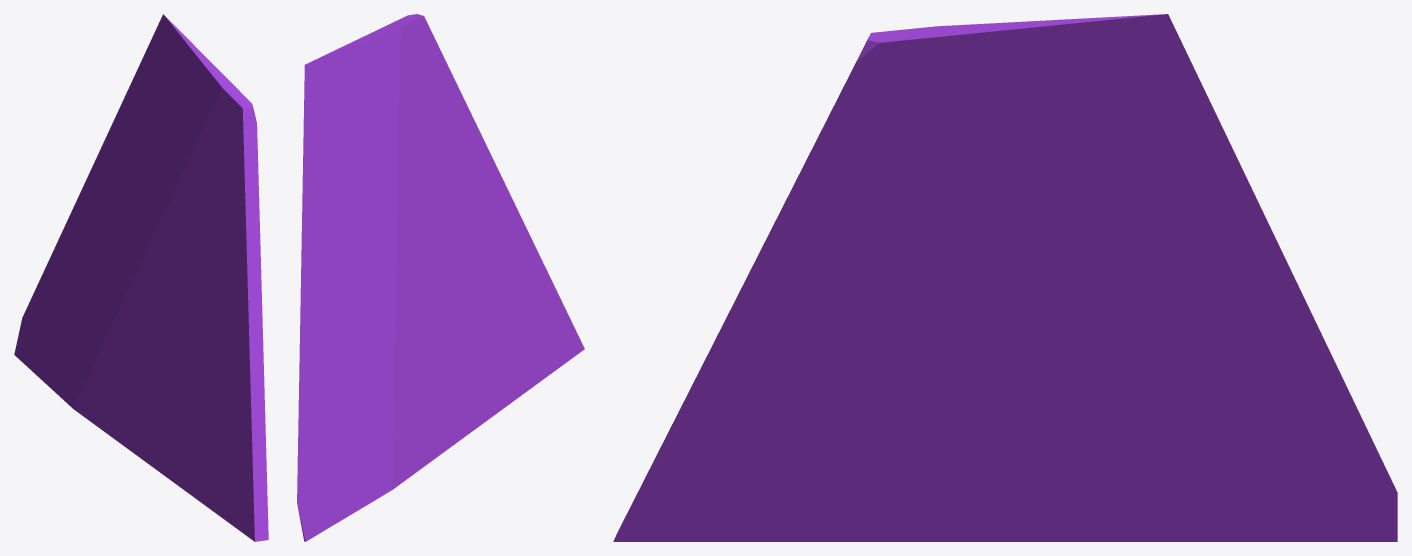
The model's file is Window_4_5_chunks.fbx.
The picture shows the model from 3 angles, left to right: view 1: azimuth 30°, elevation 25°; view 2: azimuth 150°, elevation 25°; view 3: azimuth 270°, elevation 25°; orthographic projection. The views are drawn at different scales.
Parts seen in each view (by area): view 1: Window_4_5_0, Window_4_5_6, Window_4_5_5, Window_4_5_1, Window_4_5_3, Window_4_5_7, Window_4_5_9, Window_4_5_8, Window_4_5_4, Window_4_5_2; view 2: Window_4_5_0, Window_4_5_5, Window_4_5_6, Window_4_5_3, Window_4_5_7, Window_4_5_1, Window_4_5_9, Window_4_5_8, Window_4_5_4, Window_4_5_2; view 3: Window_4_5_0, Window_4_5_1, Window_4_5_6, Window_4_5_5, Window_4_5_7, Window_4_5_3, Window_4_5_4, Window_4_5_8, Window_4_5_9, Window_4_5_2.
Boxes of the visible parts, bbox=[...] form: Window_4_5_0: bbox=[133, 14, 247, 259]; Window_4_5_6: bbox=[172, 352, 268, 541]; Window_4_5_5: bbox=[37, 80, 141, 300]; Window_4_5_1: bbox=[178, 96, 262, 325]; Window_4_5_3: bbox=[14, 287, 106, 414]; Window_4_5_7: bbox=[81, 357, 179, 480]; Window_4_5_9: bbox=[110, 258, 186, 366]; Window_4_5_8: bbox=[177, 259, 263, 360]; Window_4_5_4: bbox=[107, 143, 158, 285]; Window_4_5_2: bbox=[99, 270, 152, 363]; Window_4_5_0: bbox=[303, 15, 431, 251]; Window_4_5_5: bbox=[297, 159, 370, 457]; Window_4_5_6: bbox=[463, 203, 584, 413]; Window_4_5_3: bbox=[297, 372, 402, 541]; Window_4_5_7: bbox=[400, 310, 496, 483]; Window_4_5_1: bbox=[399, 14, 499, 225]; Window_4_5_9: bbox=[403, 228, 464, 397]; Window_4_5_8: bbox=[423, 172, 514, 289]; Window_4_5_4: bbox=[341, 192, 408, 347]; Window_4_5_2: bbox=[369, 270, 407, 407]; Window_4_5_0: bbox=[863, 14, 1217, 269]; Window_4_5_1: bbox=[738, 37, 1028, 295]; Window_4_5_6: bbox=[613, 317, 892, 541]; Window_4_5_5: bbox=[1157, 117, 1373, 444]; Window_4_5_7: bbox=[856, 382, 1144, 541]; Window_4_5_3: bbox=[1100, 394, 1397, 541]; Window_4_5_4: bbox=[1015, 166, 1176, 405]; Window_4_5_8: bbox=[718, 286, 989, 393]; Window_4_5_9: bbox=[925, 293, 1081, 420]; Window_4_5_2: bbox=[1054, 369, 1149, 455].
Size of the model in its own units: 188 by 788 by 960.
